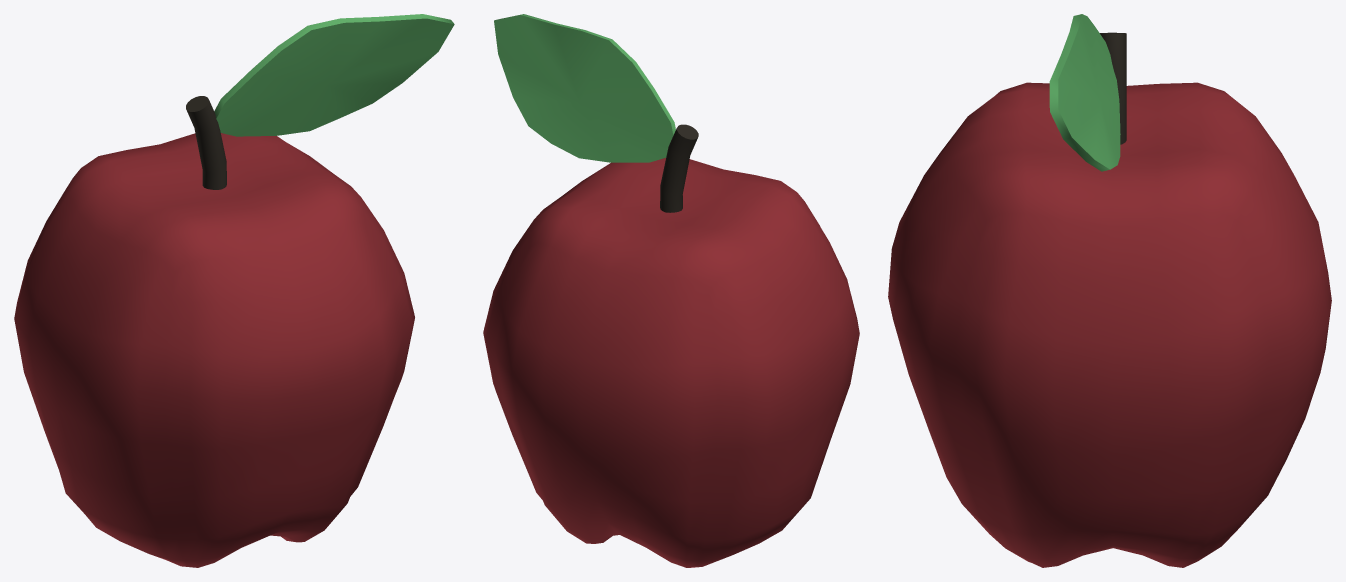
Rendered from ringo.fbx.
The picture shows the model from 3 angles, left to right: view 1: azimuth 30°, elevation 25°; view 2: azimuth 150°, elevation 25°; view 3: azimuth 270°, elevation 25°; orthographic projection. The views are drawn at different scales.
Parts seen in each view (by area): view 1: pCube8, pCylinder7, pCylinder6; view 2: pCube8, pCylinder7, pCylinder6; view 3: pCube8, pCylinder7, pCylinder6.
Boxes of the visible parts, <box> form: pCube8: <box>14,133,414,567</box>; pCylinder7: <box>214,14,454,136</box>; pCylinder6: <box>186,96,226,189</box>; pCube8: <box>483,158,859,567</box>; pCylinder7: <box>494,14,675,162</box>; pCylinder6: <box>660,124,698,212</box>; pCube8: <box>888,82,1331,567</box>; pCylinder7: <box>1049,14,1120,171</box>; pCylinder6: <box>1100,32,1126,144</box>.
Size of the model in its own units: 6.36 by 8.09 by 5.71.
